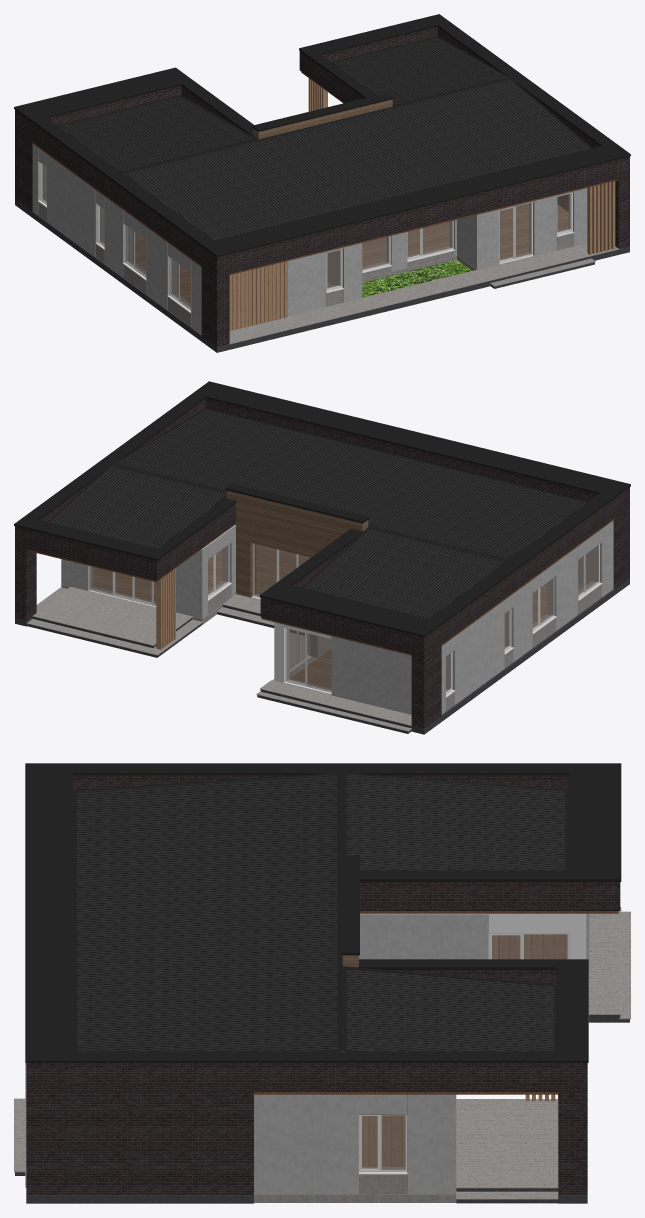
Rendered from modern_one_story_house_ecee8f3a.glb.
The picture shows the model from 3 angles, top to bottom: view 1: azimuth 30°, elevation 25°; view 2: azimuth 150°, elevation 25°; view 3: azimuth 270°, elevation 25°; orthographic projection. The views are drawn at different scales.
Visible parts, largest first — view 1: modern_one_story_house_ecee8f3a; view 2: modern_one_story_house_ecee8f3a; view 3: modern_one_story_house_ecee8f3a.
Part boxes in pixels (x1,y1,x2,y2): modern_one_story_house_ecee8f3a: [14, 14, 630, 352]; modern_one_story_house_ecee8f3a: [14, 381, 630, 734]; modern_one_story_house_ecee8f3a: [14, 763, 630, 1203].
Size of the model in its own units: 21.67 by 5.4 by 19.01.
Materials: 14 (9 with a texture image).
